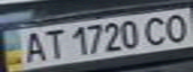0: (118, 17, 145, 50)
1: (66, 24, 87, 56)
2: (103, 19, 124, 52)
7: (84, 21, 106, 55)
A: (18, 29, 48, 64)
C: (139, 13, 175, 46)
O: (160, 10, 193, 43)
T: (39, 27, 66, 61)
